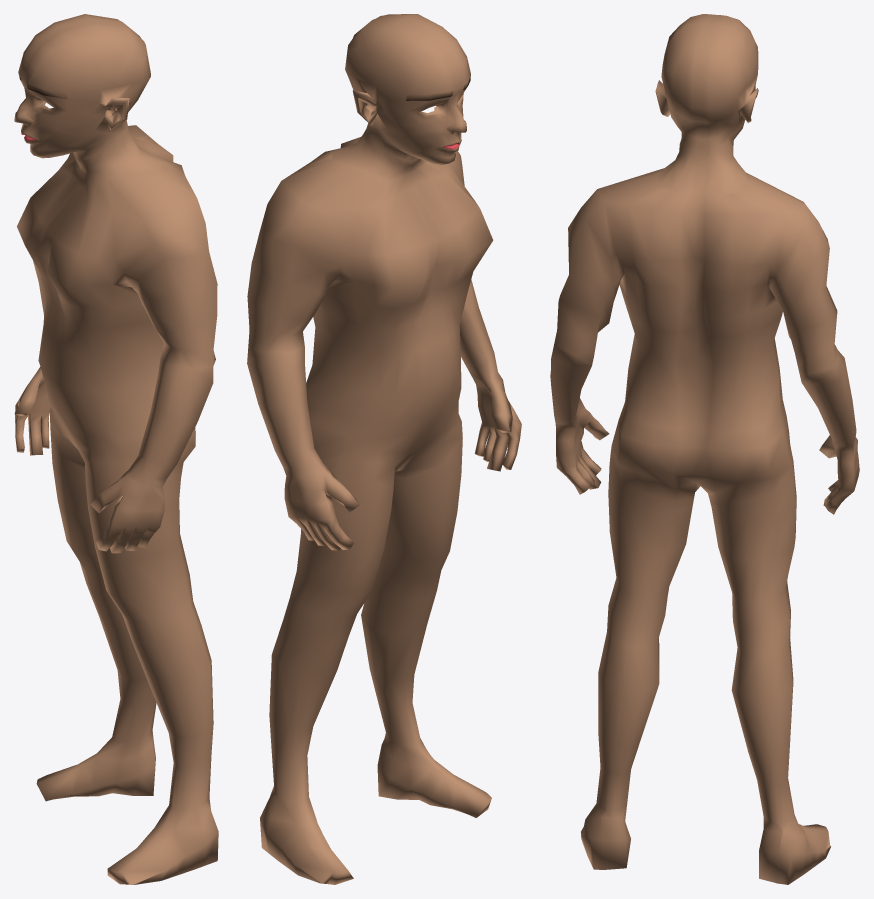
Rendered from boneco2.glb.
The picture shows the model from 3 angles, left to right: view 1: azimuth 30°, elevation 25°; view 2: azimuth 150°, elevation 25°; view 3: azimuth 270°, elevation 25°; orthographic projection.
Parts seen in each view (by area): view 1: Plane.002; view 2: Plane.002; view 3: Plane.002.
Boxes of the visible parts, x1,y1,x2,y2 form: Plane.002: (14,14,218,884); Plane.002: (247,14,521,884); Plane.002: (550,14,859,884).
Bounding box in the file's own units: 0.7574 × 3.48 × 1.2.
